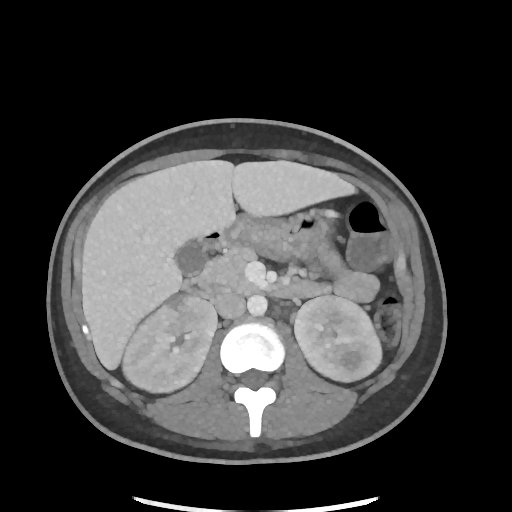Lesion: (335, 342, 367, 373)
